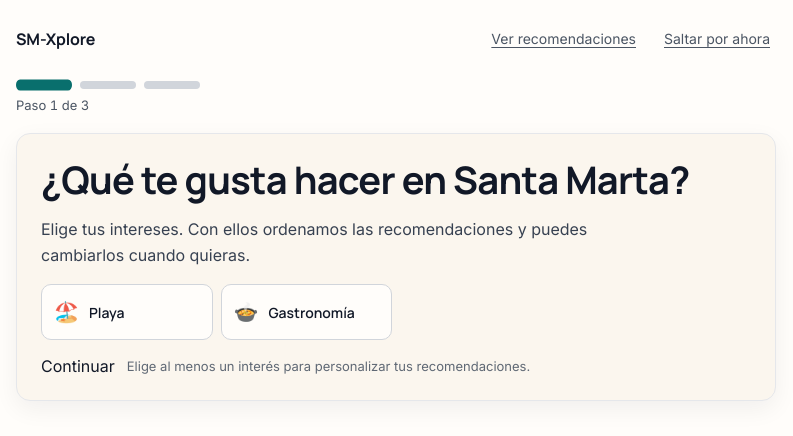
Scenario: OnboardingPage › crear una preferencia desde una cápsula la guarda y enciende el punto 1
Click the button "🍲 Gastronomía". click: (306, 312)
box: [220, 284, 392, 340]
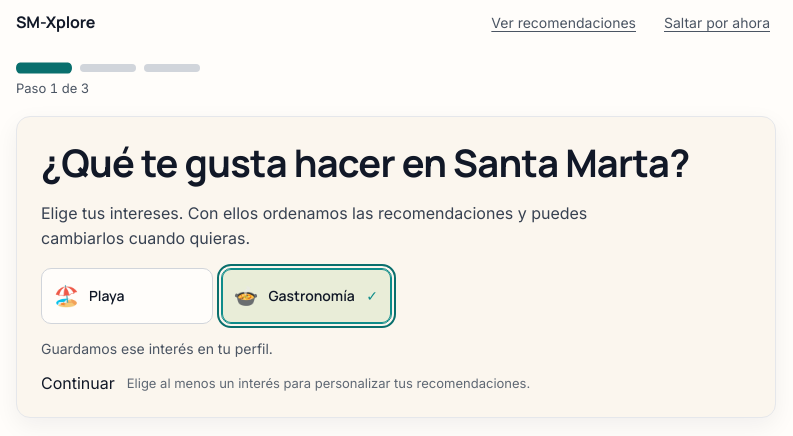
Check: the button "🍲 Gastronomía ✓" is pressed, box [220, 268, 392, 324]
